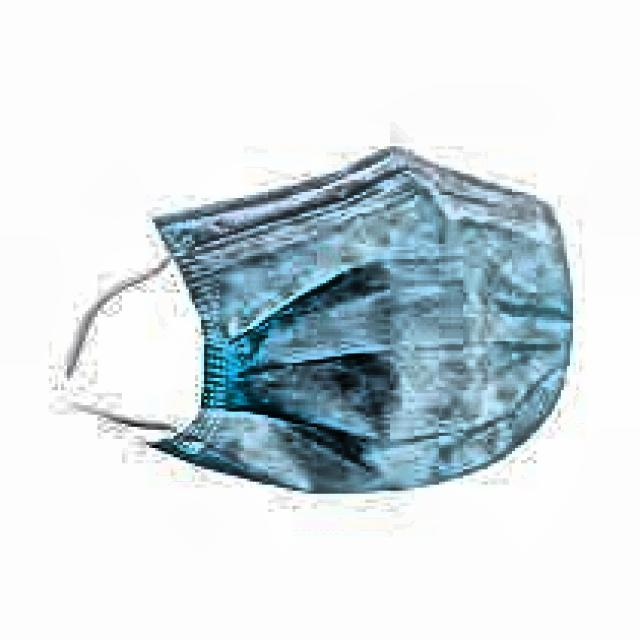trash: (130, 151, 581, 490)
